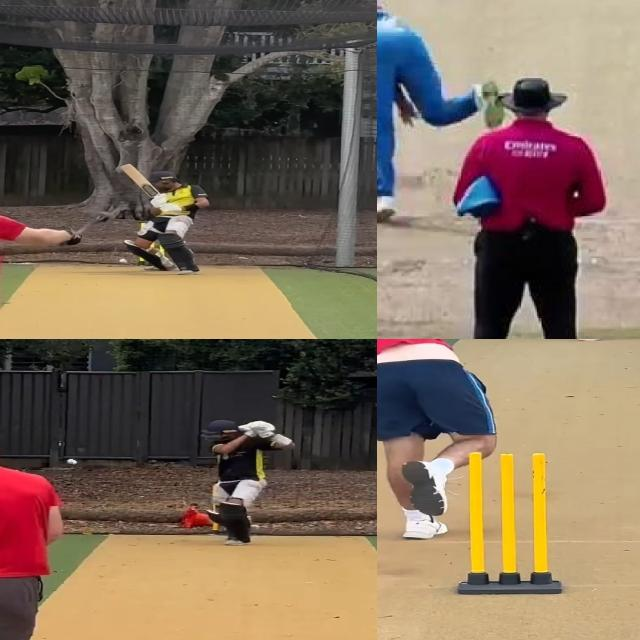Cricket ball: (118, 257, 131, 265), (66, 458, 78, 465)
Stumps: (457, 449, 567, 598)
